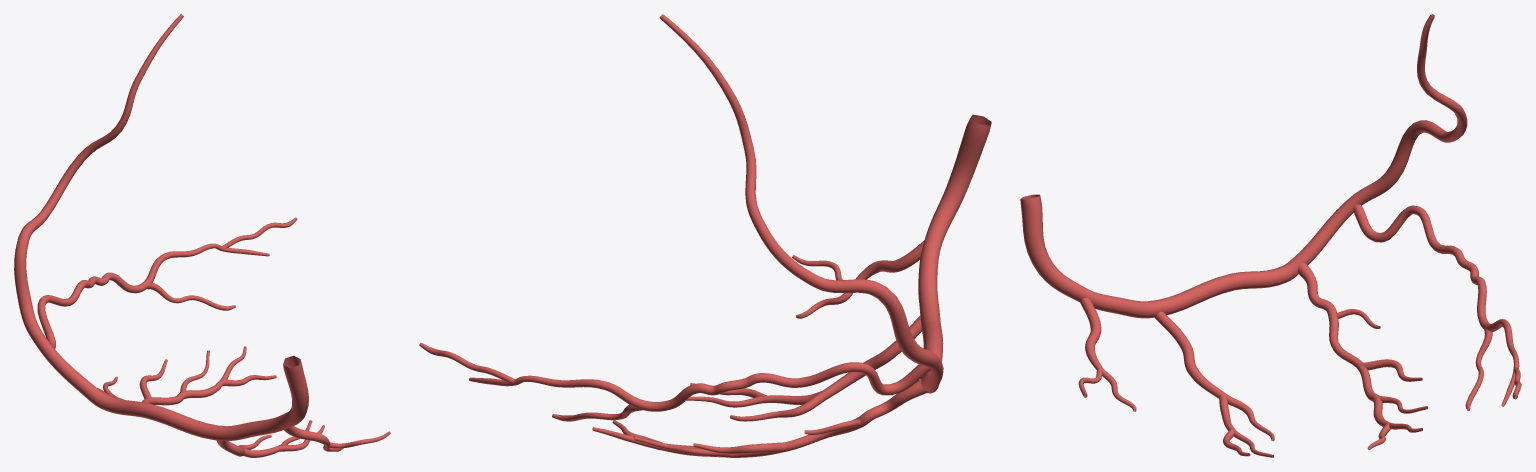
3 views of the same model, side by side, from view 1: azimuth 30°, elevation 25°; view 2: azimuth 150°, elevation 25°; view 3: azimuth 270°, elevation 25° (orthographic). The views are drawn at different scales.
Visible parts, largest first — view 1: 右冠状动脉; view 2: 右冠状动脉; view 3: 右冠状动脉.
Part boxes in pixels (box(x1,y1,x2,y2)): 右冠状动脉: box(14, 14, 390, 457); 右冠状动脉: box(419, 14, 991, 457); 右冠状动脉: box(1020, 14, 1521, 457).
Size of the model in its own units: 0.1187 by 0.1263 by 0.1373.
